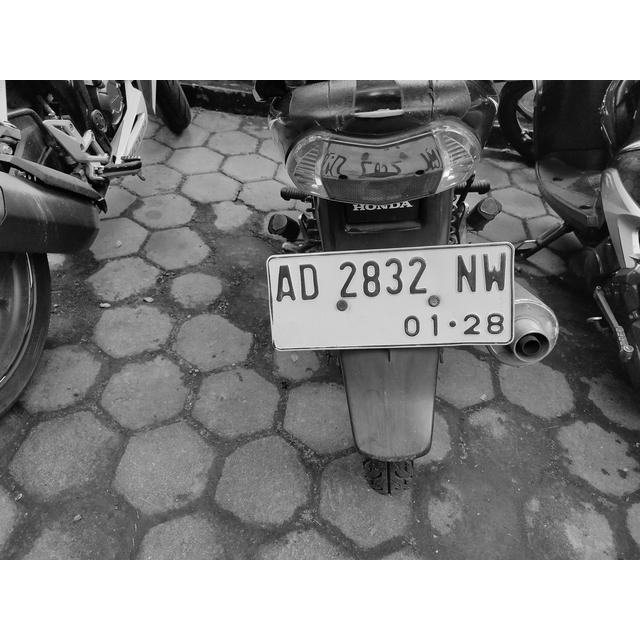license: (273, 250, 507, 339)
